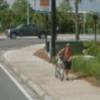bicycles: (53, 57, 65, 81)
